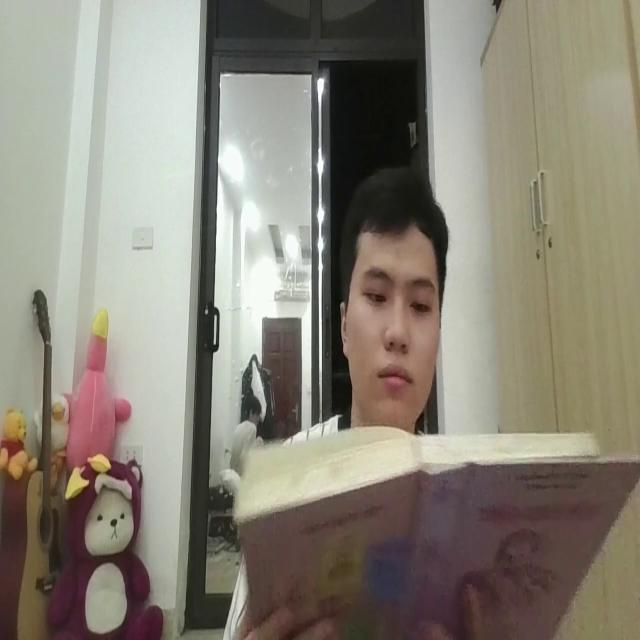book: (231, 413, 640, 639)
student: (333, 154, 448, 433)
